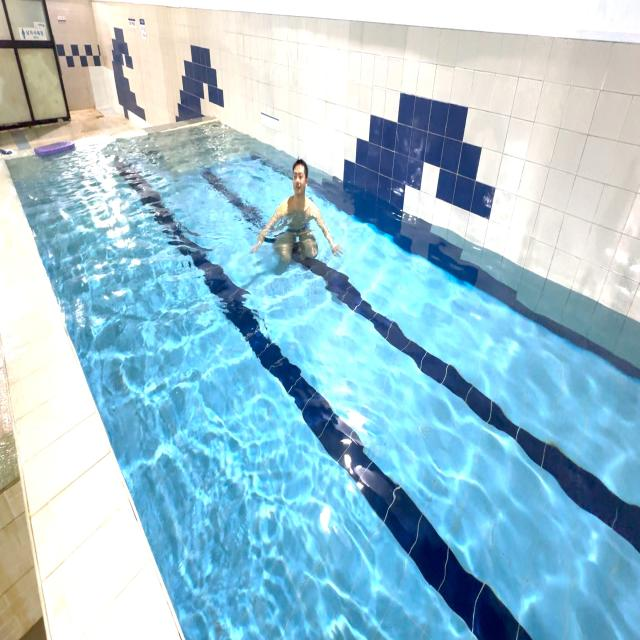Swimming: (248, 135, 348, 283)
